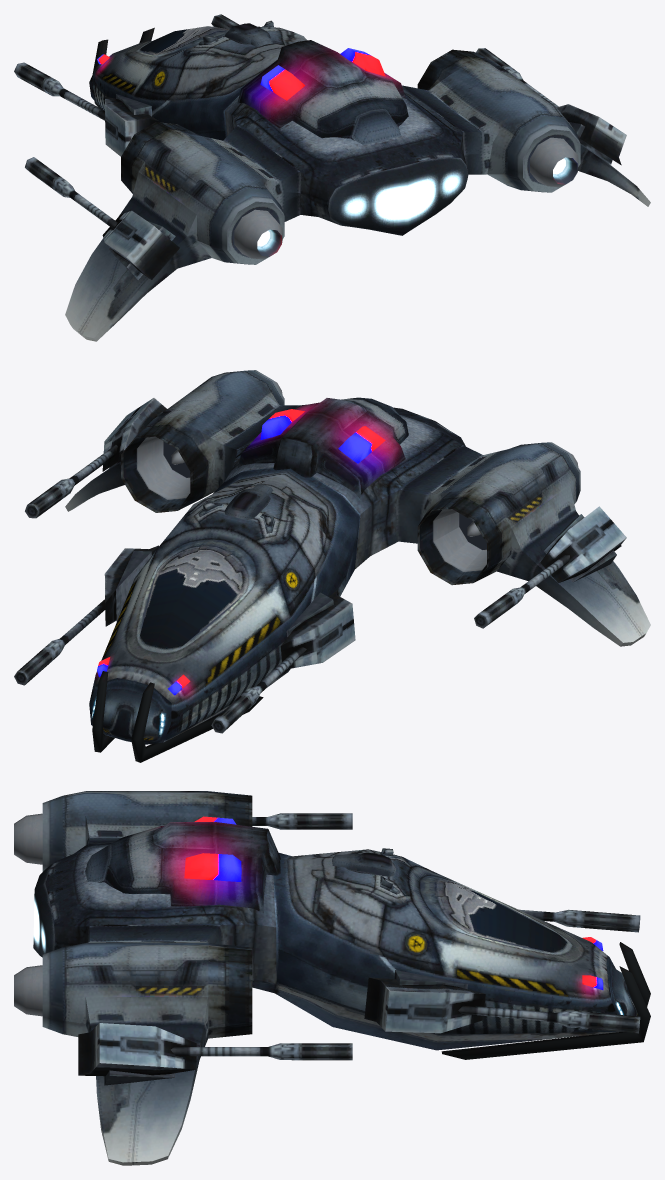
File: police.glb
The picture shows the model from 3 angles, top to bottom: view 1: azimuth 30°, elevation 25°; view 2: azimuth 150°, elevation 25°; view 3: azimuth 270°, elevation 25°; orthographic projection. The views are drawn at different scales.
Parts seen in each view (by area): view 1: police; view 2: police; view 3: police.
Part boxes in pixels (x1,y1,x2,y2): police: (14, 14, 650, 341); police: (14, 370, 650, 762); police: (14, 791, 650, 1165).
Size of the model in its own units: 120 by 40.71 by 112.
1 material, 1 textured.
